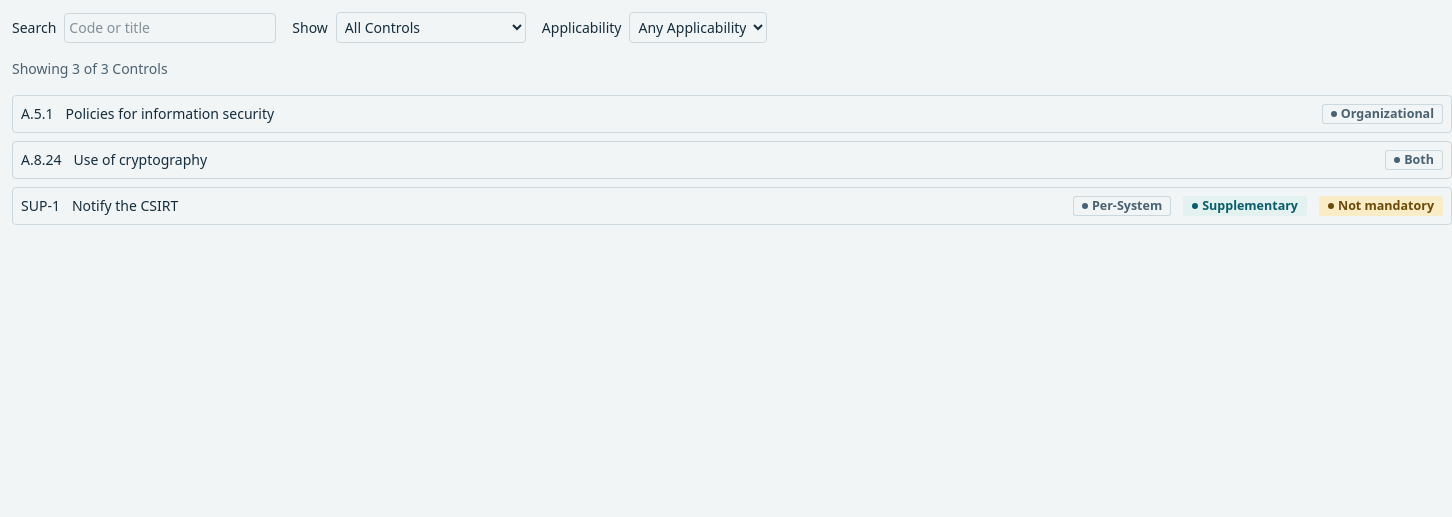
Test: ControlLibrary (#169) › says a Control with no Facets or thresholds applies regardless, and an unowned one has no Control Owner
Click the text "Notify the CSIRT" at (125, 206), box [72,196,178,215]
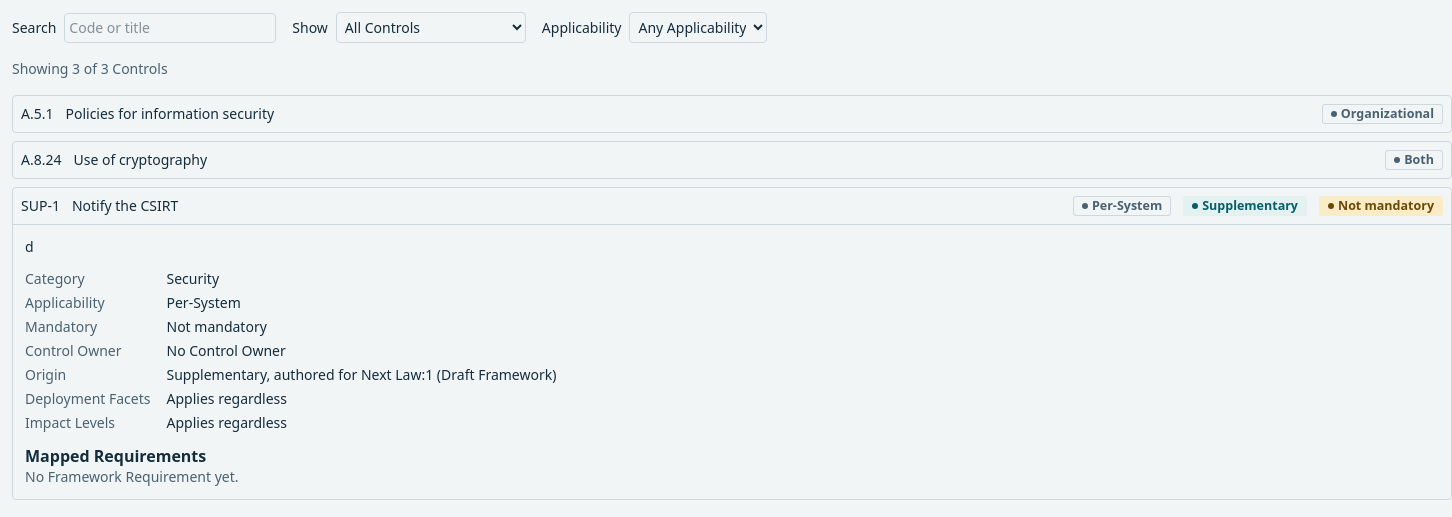
Result: the text "Applies regardless" is shown 2 times at [166,389,287,408]; [166,413,287,432]
Result: the text "No Control Owner" is shown at [166,341,286,360]
Result: the text "Supplementary, authored for Next Law:1 (Draft Framework)" is shown at [166,365,556,384]
